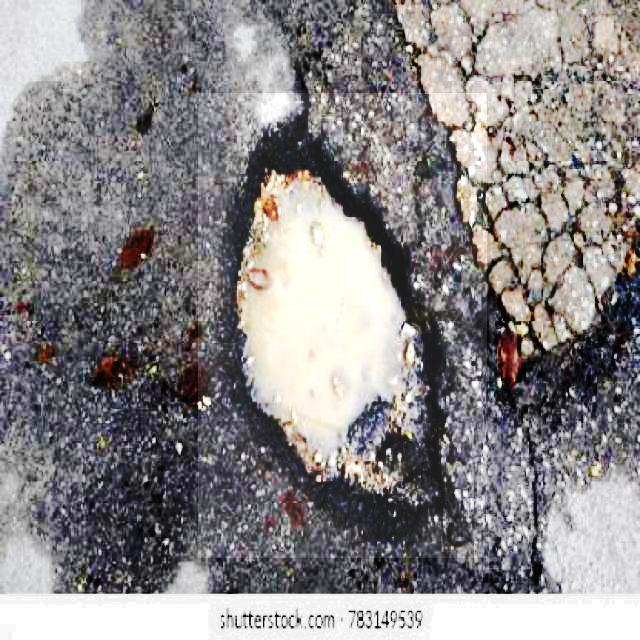pothole: (198, 93, 487, 558)
